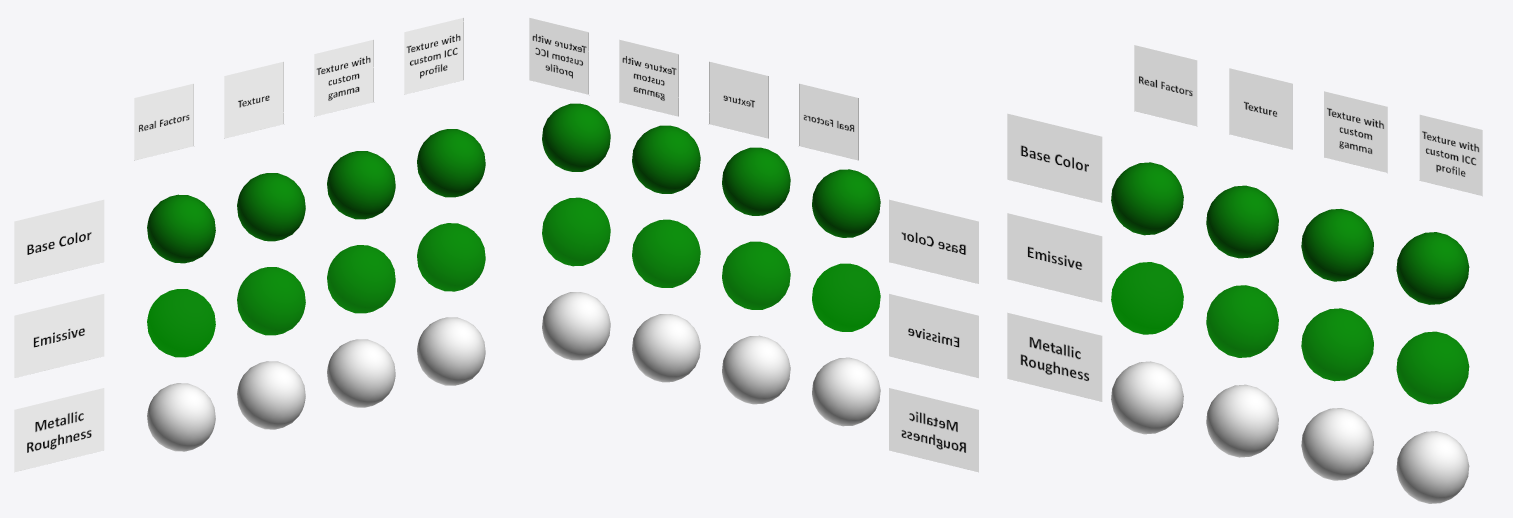
The model's file is TextureEncodingTest.gltf.
The picture shows the model from 3 angles, left to right: view 1: azimuth 30°, elevation 25°; view 2: azimuth 150°, elevation 25°; view 3: azimuth 330°, elevation 25°; orthographic projection. The views are drawn at different scales.
Size of the model in its own units: 15.5 by 12 by 2.
14 materials, 8 textured.
